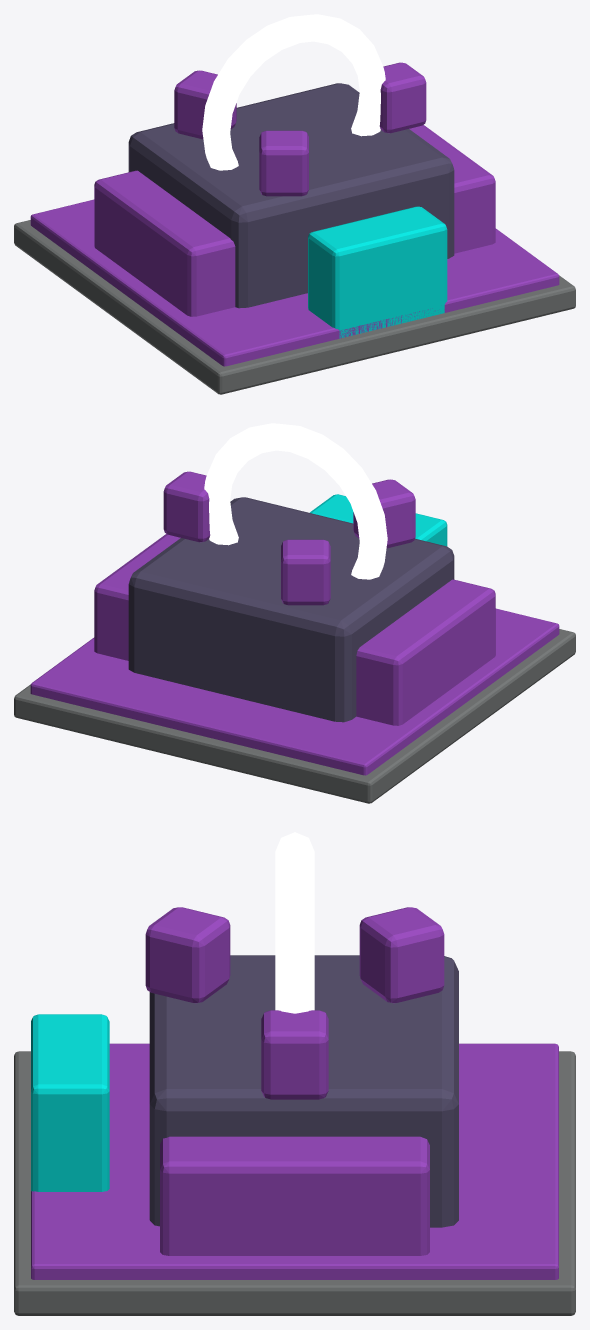
The model's file is SM_Chronolegion_CH_Barracks.fbx.
3 renders of one model, top to bottom at view 1: azimuth 30°, elevation 25°; view 2: azimuth 150°, elevation 25°; view 3: azimuth 270°, elevation 25°, orthographic. The views are drawn at different scales.
Visible parts, largest first — view 1: SM_Chronolegion_CH_Barracks_MainMass, SM_Chronolegion_CH_Barracks_FoundationTrim, SM_Chronolegion_CH_Barracks, SM_Chronolegion_CH_Barracks_Entrance, SM_Chronolegion_CH_Barracks_BunkerWing_-1, SM_Chronolegion_CH_Barracks_ChronoRing, SM_Chronolegion_CH_Barracks_BunkerWing_+1, SM_Chronolegion_CH_Barracks_FloatingNode_2, SM_Chronolegion_CH_Barracks_FloatingNode_0, SM_Chronolegion_CH_Barracks_FloatingNode_1; view 2: SM_Chronolegion_CH_Barracks_MainMass, SM_Chronolegion_CH_Barracks_FoundationTrim, SM_Chronolegion_CH_Barracks, SM_Chronolegion_CH_Barracks_BunkerWing_-1, SM_Chronolegion_CH_Barracks_ChronoRing, SM_Chronolegion_CH_Barracks_BunkerWing_+1, SM_Chronolegion_CH_Barracks_FloatingNode_1, SM_Chronolegion_CH_Barracks_FloatingNode_0, SM_Chronolegion_CH_Barracks_FloatingNode_2, SM_Chronolegion_CH_Barracks_Entrance; view 3: SM_Chronolegion_CH_Barracks_FoundationTrim, SM_Chronolegion_CH_Barracks_MainMass, SM_Chronolegion_CH_Barracks_BunkerWing_+1, SM_Chronolegion_CH_Barracks, SM_Chronolegion_CH_Barracks_Entrance, SM_Chronolegion_CH_Barracks_FloatingNode_1, SM_Chronolegion_CH_Barracks_FloatingNode_2, SM_Chronolegion_CH_Barracks_ChronoRing, SM_Chronolegion_CH_Barracks_FloatingNode_0.
Boxes of the visible parts, x1=… form: SM_Chronolegion_CH_Barracks_MainMass: x1=128, y1=83, x2=454, y2=308; SM_Chronolegion_CH_Barracks_FoundationTrim: x1=30, y1=199, x2=559, y2=366; SM_Chronolegion_CH_Barracks: x1=14, y1=220, x2=575, y2=394; SM_Chronolegion_CH_Barracks_Entrance: x1=308, y1=206, x2=447, y2=338; SM_Chronolegion_CH_Barracks_BunkerWing_-1: x1=94, y1=170, x2=235, y2=316; SM_Chronolegion_CH_Barracks_ChronoRing: x1=202, y1=14, x2=385, y2=170; SM_Chronolegion_CH_Barracks_BunkerWing_+1: x1=409, y1=125, x2=495, y2=253; SM_Chronolegion_CH_Barracks_FloatingNode_2: x1=259, y1=130, x2=308, y2=196; SM_Chronolegion_CH_Barracks_FloatingNode_0: x1=379, y1=62, x2=426, y2=133; SM_Chronolegion_CH_Barracks_FloatingNode_1: x1=174, y1=70, x2=236, y2=139; SM_Chronolegion_CH_Barracks_MainMass: x1=128, y1=497, x2=454, y2=722; SM_Chronolegion_CH_Barracks_FoundationTrim: x1=30, y1=608, x2=559, y2=775; SM_Chronolegion_CH_Barracks: x1=14, y1=629, x2=575, y2=803; SM_Chronolegion_CH_Barracks_BunkerWing_-1: x1=356, y1=579, x2=495, y2=725; SM_Chronolegion_CH_Barracks_ChronoRing: x1=204, y1=423, x2=387, y2=579; SM_Chronolegion_CH_Barracks_BunkerWing_+1: x1=94, y1=534, x2=180, y2=660; SM_Chronolegion_CH_Barracks_FloatingNode_1: x1=281, y1=539, x2=330, y2=605; SM_Chronolegion_CH_Barracks_FloatingNode_0: x1=163, y1=471, x2=210, y2=542; SM_Chronolegion_CH_Barracks_FloatingNode_2: x1=353, y1=479, x2=415, y2=548; SM_Chronolegion_CH_Barracks_Entrance: x1=310, y1=494, x2=447, y2=546; SM_Chronolegion_CH_Barracks_FoundationTrim: x1=31, y1=1043, x2=558, y2=1279; SM_Chronolegion_CH_Barracks_MainMass: x1=149, y1=955, x2=458, y2=1227; SM_Chronolegion_CH_Barracks_BunkerWing_+1: x1=160, y1=1136, x2=429, y2=1255; SM_Chronolegion_CH_Barracks: x1=14, y1=1051, x2=575, y2=1315; SM_Chronolegion_CH_Barracks_Entrance: x1=31, y1=1014, x2=109, y2=1191; SM_Chronolegion_CH_Barracks_FloatingNode_1: x1=359, y1=907, x2=444, y2=1003; SM_Chronolegion_CH_Barracks_FloatingNode_2: x1=145, y1=907, x2=230, y2=1003; SM_Chronolegion_CH_Barracks_ChronoRing: x1=275, y1=832, x2=314, y2=1013; SM_Chronolegion_CH_Barracks_FloatingNode_0: x1=261, y1=1010, x2=328, y2=1099.
Size of what is drawn, in the model's own units: 600 by 600 by 417.
